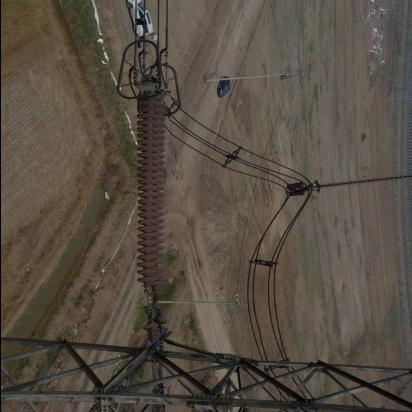insulator: (135, 90, 169, 310)
